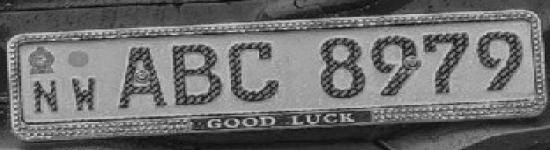7: (421, 29, 472, 99)
8: (316, 34, 365, 100)
9: (367, 32, 419, 100), (474, 29, 524, 95)
A: (110, 42, 168, 113)
B: (169, 41, 223, 109)
C: (226, 38, 284, 108)
N: (28, 77, 64, 117)
W: (66, 71, 102, 115)
